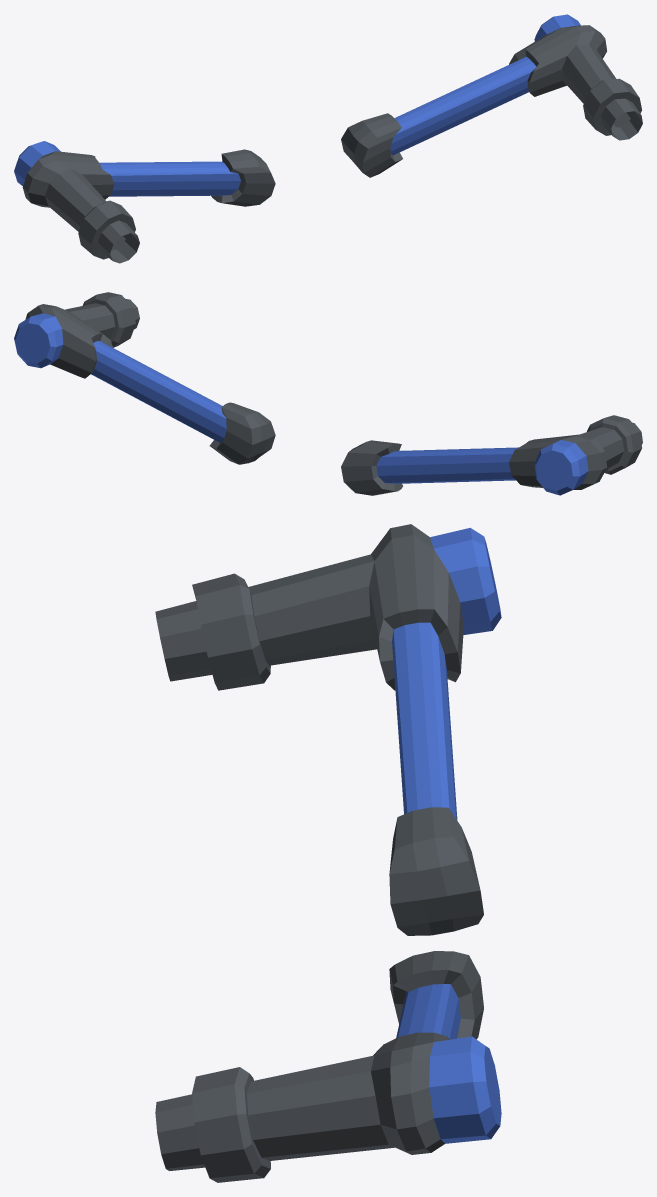
File: Personal_Vehicle_02_Handle_Bars_Blue.fbx
3 views of the same model, one above another, from view 1: azimuth 30°, elevation 25°; view 2: azimuth 150°, elevation 25°; view 3: azimuth 270°, elevation 25° (orthographic). The views are drawn at different scales.
Parts seen in each view (by area): view 1: Personal_Vehicle_02_Handle_Bars_Blue; view 2: Personal_Vehicle_02_Handle_Bars_Blue; view 3: Personal_Vehicle_02_Handle_Bars_Blue.
Part boxes in pixels (<box>): Personal_Vehicle_02_Handle_Bars_Blue: <box>14,14,642,263</box>; Personal_Vehicle_02_Handle_Bars_Blue: <box>14,292,642,495</box>; Personal_Vehicle_02_Handle_Bars_Blue: <box>155,524,501,1182</box>.
Size of the model in its own units: 50.49 by 8.54 by 13.05.
1 material, 1 textured.
